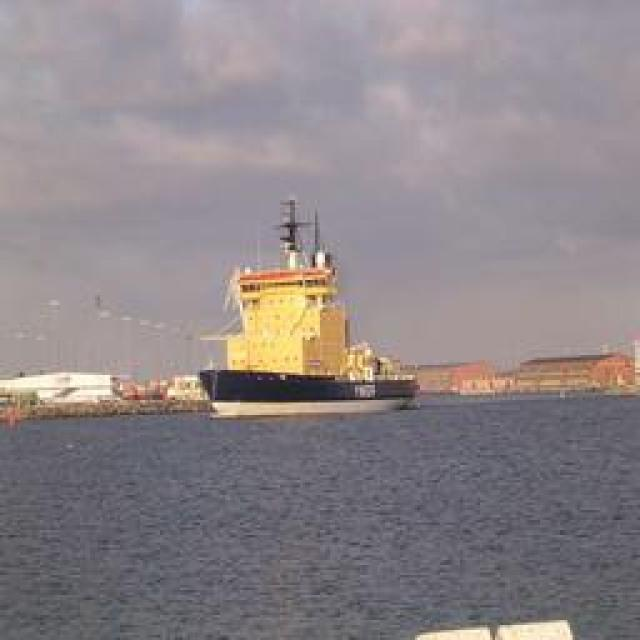CIV_Ship: (199, 185, 419, 418)
